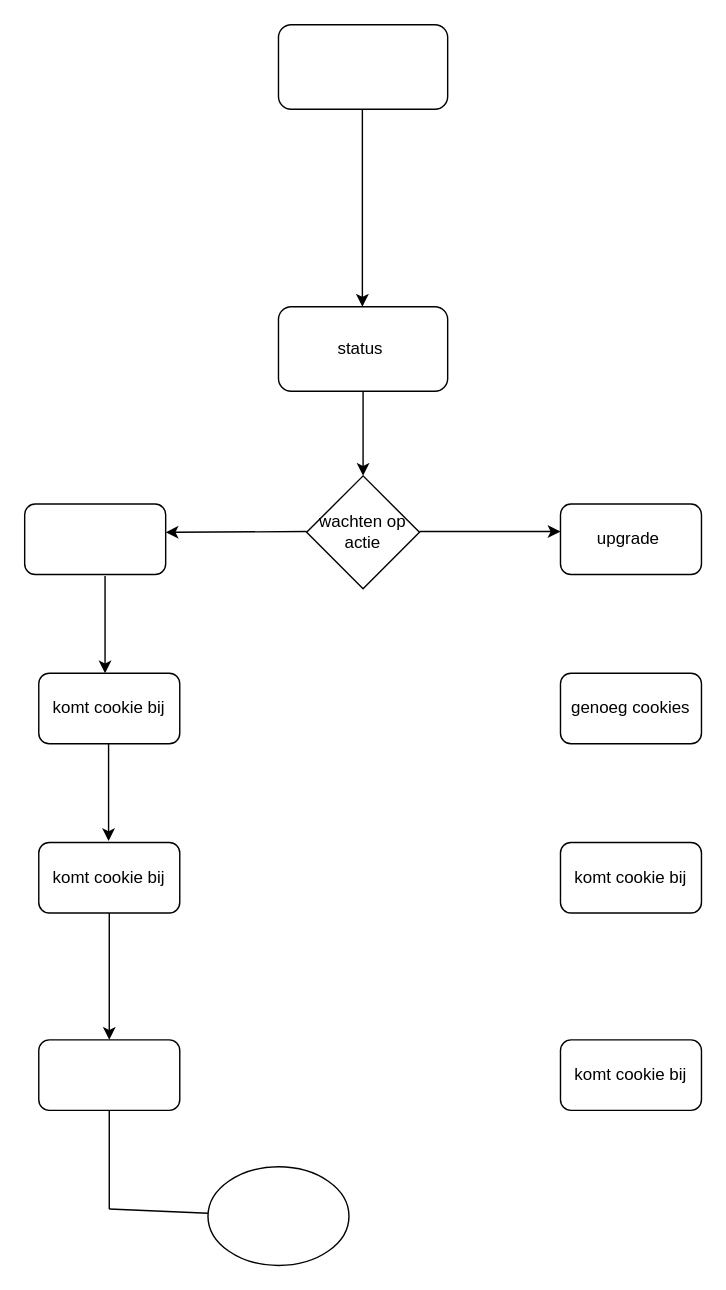
Some shapes in this 726 by 1290 pixel diagram are drawn without their labels. Each missing label, with the centre of its shape:
"click cookie" belongs at [94,539].
"einde" belongs at [278,1215].
"start" belongs at [362,66].
"update getal" belongs at [108,1074].
